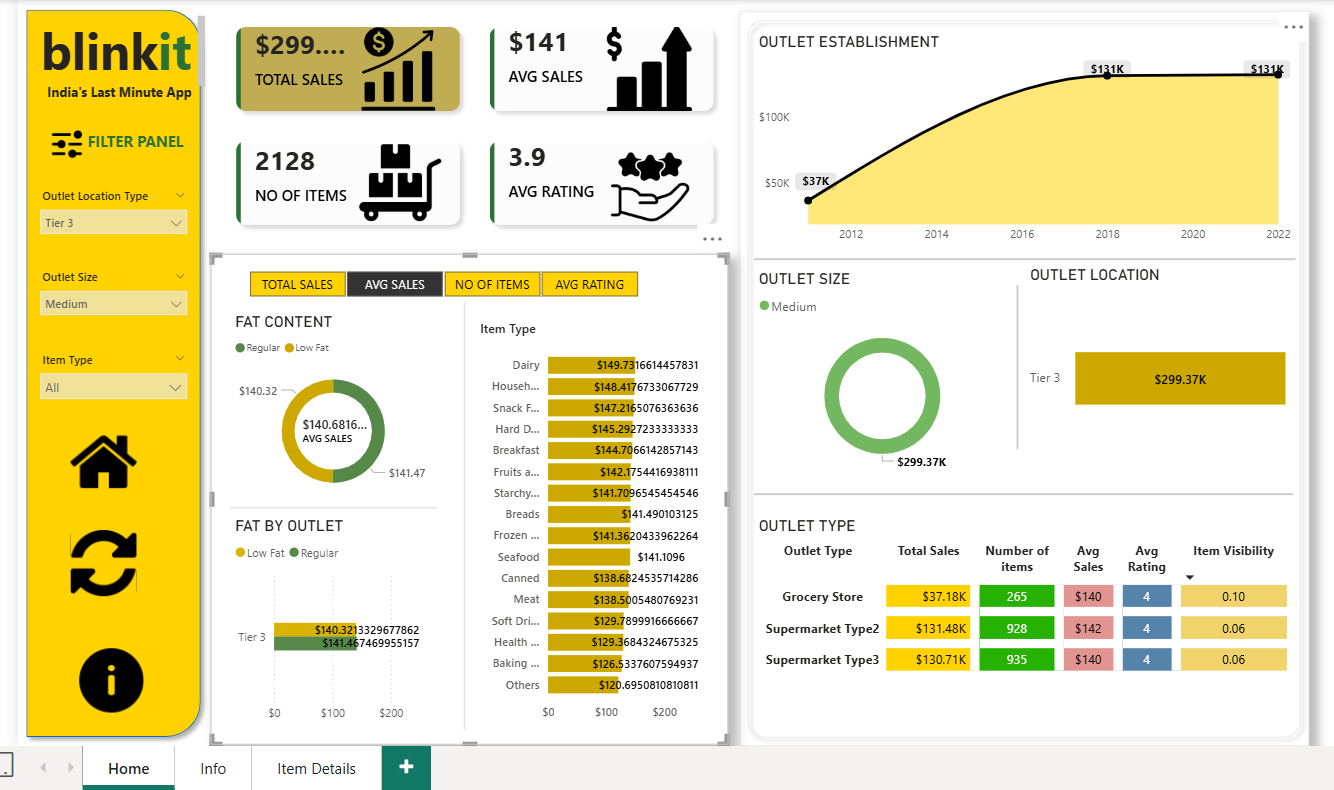

What the dashboard file says about the page in this screenshot:
{"tool":"powerbi","page":{"name":"Home","canvas":[1420,800],"ordinal":0},"visuals":[{"type":"shape","box":[0,1,205,798],"z":0},{"type":"textbox","box":[13.7,12.2,191.8,91.3],"z":1000},{"type":"textbox","box":[14,84,178.1,38],"z":2000},{"type":"cardVisual","fields":{"Data":["BlinkIT Grocery Data.TOTAL SALES","BlinkIT Grocery Data.AVG SALES","BlinkIT Grocery Data.NO OF ITEMS","BlinkIT Grocery Data.AVG RATING"]},"box":[205,0,570,270],"z":3000},{"type":"textbox","box":[70,135,122,38],"z":4000},{"type":"image","box":[35,135,35,38],"z":5000},{"type":"areaChart","title":" OUTLET ESTABLISHMENT","fields":{"Category":["BlinkIT Grocery Data.Outlet Establishment Year"],"Y":["BlinkIT Grocery Data.TOTAL SALES"]},"box":[789,35,580,235],"z":6000},{"type":"shape","box":[789,270,580.4,17],"z":7000},{"type":"donutChart","title":"OUTLET SIZE","fields":{"Y":["BlinkIT Grocery Data.TOTAL SALES"],"Category":["BlinkIT Grocery Data.Outlet Size"]},"box":[789,288.2,275,224],"z":8000},{"type":"shape","box":[1064,305,15,176],"z":9000},{"type":"funnel","title":"OUTLET LOCATION","fields":{"Category":["BlinkIT Grocery Data.Outlet Location Type"],"Y":["Sum(BlinkIT Grocery Data.Sales)"]},"box":[1080,284,289,224],"z":10000},{"type":"shape","box":[790,518,578,25],"z":11000},{"type":"pivotTable","title":"OUTLET TYPE","fields":{"Rows":["BlinkIT Grocery Data.Outlet Type"],"Values":["BlinkIT Grocery Data.TOTAL SALES","BlinkIT Grocery Data.NO OF ITEMS","BlinkIT Grocery Data.AVG SALES","BlinkIT Grocery Data.AVG RATING","Avg(BlinkIT Grocery Data.Item Visibility)"]},"box":[790,553,580,217.6],"z":12000},{"type":"shape","box":[774,12.5,611.1,788],"z":13000},{"type":"barChart","title":" Item Type","fields":{"Y":["BlinkIT Grocery Data.TOTAL SALES"],"Category":["BlinkIT Grocery Data.Item Type"]},"box":[490.3,343.1,258.3,438.9],"z":14000},{"type":"donutChart","title":"FAT CONTENT","fields":{"Y":["BlinkIT Grocery Data.TOTAL SALES"],"Category":["BlinkIT Grocery Data.Item Fat Content"]},"box":[227.3,335.1,220.8,207.8],"z":15000},{"type":"clusteredBarChart","title":"FAT BY OUTLET","fields":{"Y":["BlinkIT Grocery Data.TOTAL SALES"],"Category":["BlinkIT Grocery Data.Outlet Location Type"],"Series":["BlinkIT Grocery Data.Item Fat Content"]},"box":[227.3,553.2,221,229],"z":16000},{"type":"slicer","fields":{"Values":["Metrics.Metrics"]},"box":[223,284,466,39],"z":17000},{"type":"cardVisual","fields":{"Data":["BlinkIT Grocery Data.TOTAL SALES"]},"box":[288.3,427.3,107.8,67.5],"z":18000},{"type":"shape","box":[227.6,534.8,221.2,19.1],"z":19000},{"type":"shape","box":[467.9,324.7,22.3,458.4],"z":20000},{"type":"shape","box":[206,272,555,527],"z":21000},{"type":"slicer","fields":{"Values":["BlinkIT Grocery Data.Outlet Location Type"]},"box":[14,197.5,178.2,73.4],"z":22000},{"type":"slicer","fields":{"Values":["BlinkIT Grocery Data.Outlet Size"]},"box":[14,284.8,178.2,73.4],"z":23000},{"type":"slicer","fields":{"Values":["BlinkIT Grocery Data.Item Type"]},"box":[13,372,178,73],"z":24000},{"type":"actionButton","box":[52,564,79,79],"z":25000},{"type":"actionButton","box":[52,456,79,79],"z":26000},{"type":"actionButton","box":[61.1,690.3,77,79],"z":27000}]}

Visuals, with their boxes on the page's 1420x800 design canvas (x1, y1, x2, y2). These are canvas units, not pixel positions in the 1334x790 screenshot, which may show the page scaled, cropped or inside an application window:
shape: {"x1": 0, "y1": 1, "x2": 205, "y2": 799}
textbox: {"x1": 14, "y1": 12, "x2": 206, "y2": 104}
textbox: {"x1": 14, "y1": 84, "x2": 192, "y2": 122}
cardVisual - BlinkIT Grocery Data.TOTAL SALES x BlinkIT Grocery Data.AVG SALES: {"x1": 205, "y1": 0, "x2": 775, "y2": 270}
textbox: {"x1": 70, "y1": 135, "x2": 192, "y2": 173}
image: {"x1": 35, "y1": 135, "x2": 70, "y2": 173}
" OUTLET ESTABLISHMENT" areaChart: {"x1": 789, "y1": 35, "x2": 1369, "y2": 270}
shape: {"x1": 789, "y1": 270, "x2": 1369, "y2": 287}
"OUTLET SIZE" donutChart: {"x1": 789, "y1": 288, "x2": 1064, "y2": 512}
shape: {"x1": 1064, "y1": 305, "x2": 1079, "y2": 481}
"OUTLET LOCATION" funnel: {"x1": 1080, "y1": 284, "x2": 1369, "y2": 508}
shape: {"x1": 790, "y1": 518, "x2": 1368, "y2": 543}
"OUTLET TYPE" pivotTable: {"x1": 790, "y1": 553, "x2": 1370, "y2": 771}
shape: {"x1": 774, "y1": 12, "x2": 1385, "y2": 800}
" Item Type" barChart: {"x1": 490, "y1": 343, "x2": 749, "y2": 782}
"FAT CONTENT" donutChart: {"x1": 227, "y1": 335, "x2": 448, "y2": 543}
"FAT BY OUTLET" clusteredBarChart: {"x1": 227, "y1": 553, "x2": 448, "y2": 782}
slicer - Metrics.Metrics: {"x1": 223, "y1": 284, "x2": 689, "y2": 323}
cardVisual - BlinkIT Grocery Data.TOTAL SALES: {"x1": 288, "y1": 427, "x2": 396, "y2": 495}
shape: {"x1": 228, "y1": 535, "x2": 449, "y2": 554}
shape: {"x1": 468, "y1": 325, "x2": 490, "y2": 783}
shape: {"x1": 206, "y1": 272, "x2": 761, "y2": 799}
slicer - BlinkIT Grocery Data.Outlet Location Type: {"x1": 14, "y1": 198, "x2": 192, "y2": 271}
slicer - BlinkIT Grocery Data.Outlet Size: {"x1": 14, "y1": 285, "x2": 192, "y2": 358}
slicer - BlinkIT Grocery Data.Item Type: {"x1": 13, "y1": 372, "x2": 191, "y2": 445}
actionButton: {"x1": 52, "y1": 564, "x2": 131, "y2": 643}
actionButton: {"x1": 52, "y1": 456, "x2": 131, "y2": 535}
actionButton: {"x1": 61, "y1": 690, "x2": 138, "y2": 769}
